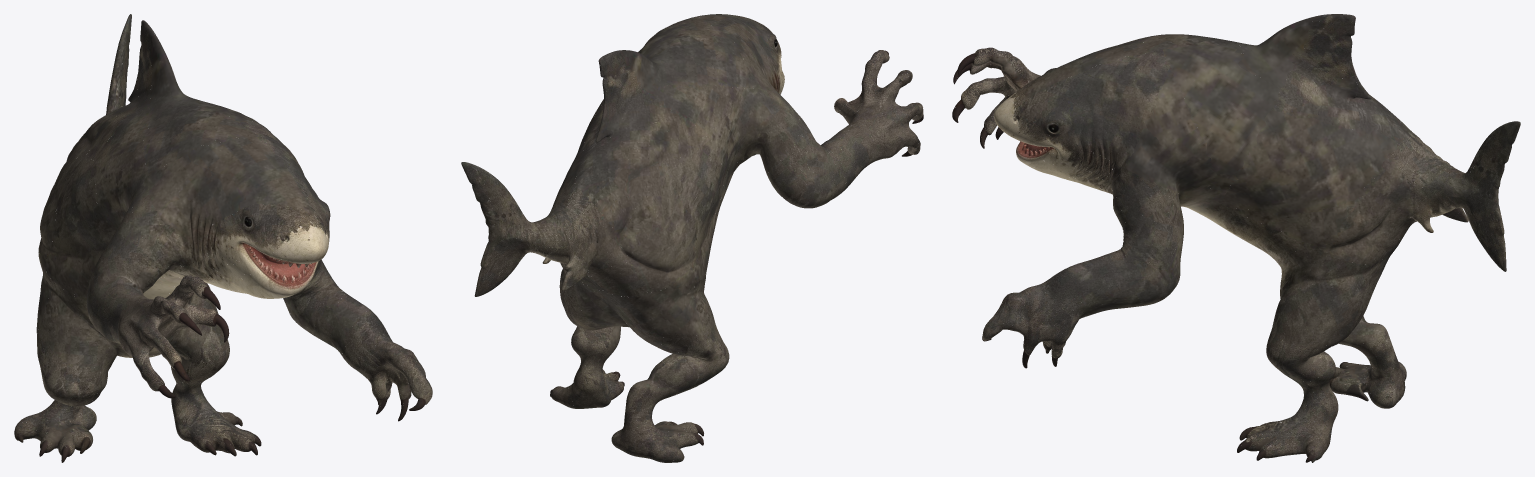
Rendered from mostro_squalo_A.glb.
3 renders of one model, left to right at view 1: azimuth 30°, elevation 25°; view 2: azimuth 150°, elevation 25°; view 3: azimuth 270°, elevation 25°, orthographic. The views are drawn at different scales.
Visible parts, largest first — view 1: mostro_squalo_A; view 2: mostro_squalo_A; view 3: mostro_squalo_A.
Part boxes in pixels (left/top/right/bottom): mostro_squalo_A: left=14, top=14, right=432, bottom=462; mostro_squalo_A: left=461, top=14, right=923, bottom=462; mostro_squalo_A: left=952, top=14, right=1520, bottom=462.
Bounding box in the file's own units: 1.63 × 2.2 × 2.74.
1 material, 1 textured.
